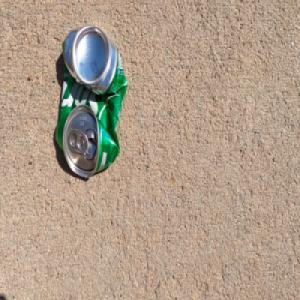SodaCan: (54, 22, 128, 179)
